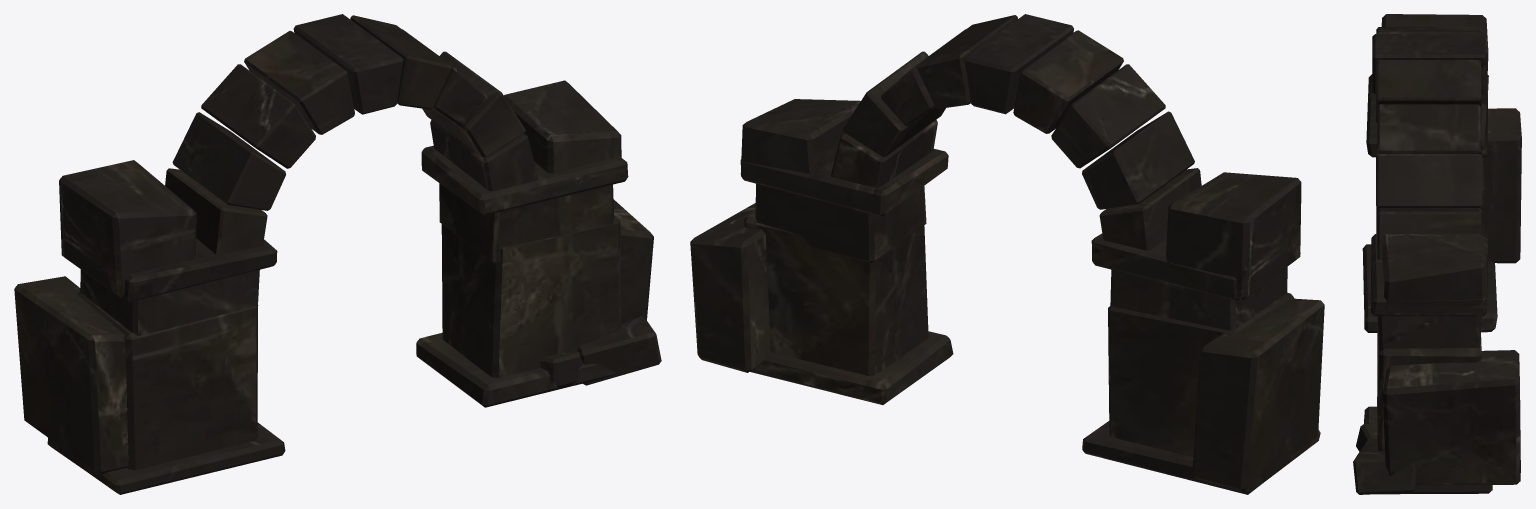
The model's file is ruin_arch_distant.glb.
3 renders of one model, left to right at view 1: azimuth 30°, elevation 25°; view 2: azimuth 150°, elevation 25°; view 3: azimuth 270°, elevation 25°, orthographic. The views are drawn at different scales.
Parts seen in each view (by area): view 1: ruin_arch_distant; view 2: ruin_arch_distant; view 3: ruin_arch_distant.
Part boxes in pixels (x1,y1,x2,y2): ruin_arch_distant: (14, 14, 661, 494); ruin_arch_distant: (690, 14, 1324, 494); ruin_arch_distant: (1353, 14, 1521, 494).
Bounding box in the file's own units: 11.67 × 7.27 × 3.28.
1 material, 1 textured.
